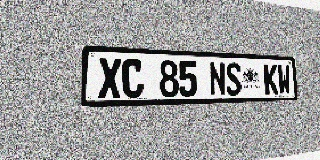5: (179, 61, 197, 97)
8: (159, 60, 179, 97)
C: (122, 59, 143, 98)
K: (264, 64, 278, 95)
N: (209, 62, 226, 96)
S: (225, 62, 242, 96)
W: (277, 64, 291, 94)
X: (98, 58, 121, 99)
